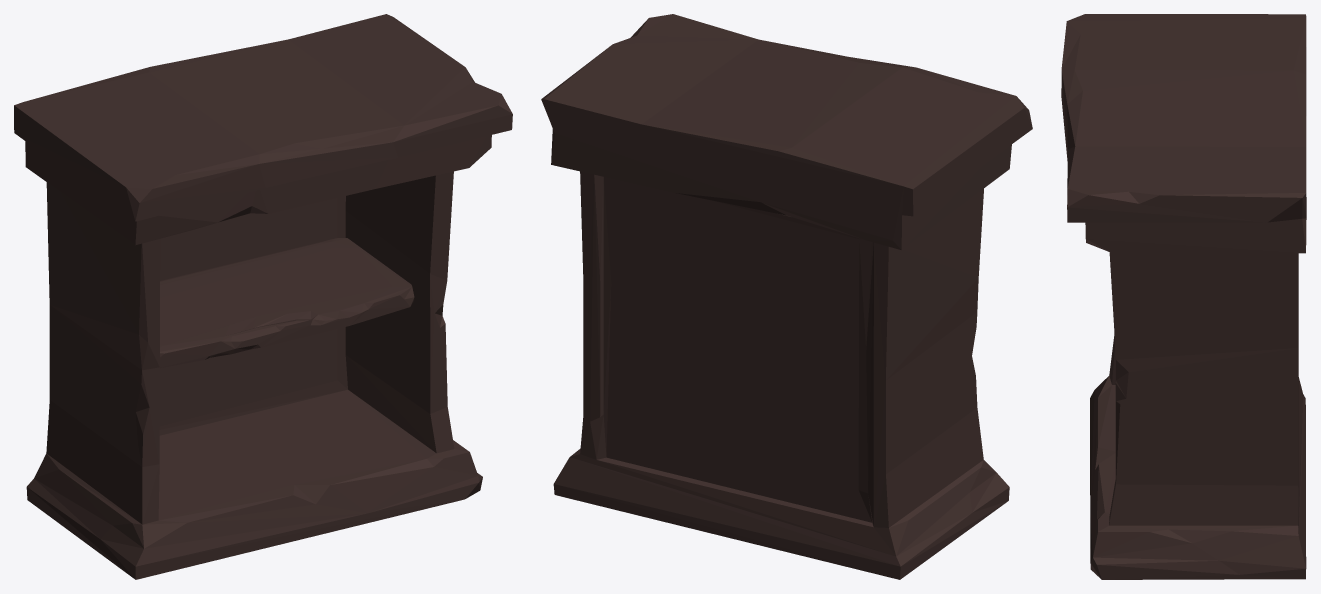
File: MDungeon_Bookcase_02.FBX
3 views of the same model, side by side, from view 1: azimuth 30°, elevation 25°; view 2: azimuth 150°, elevation 25°; view 3: azimuth 270°, elevation 25° (orthographic).
Visible parts, largest first — view 1: MDungeon_Bookcase_02_LOD0; view 2: MDungeon_Bookcase_02_LOD0; view 3: MDungeon_Bookcase_02_LOD0.
Boxes of the visible parts, x1,y1,x2,y2 form: MDungeon_Bookcase_02_LOD0: (14, 14, 512, 579); MDungeon_Bookcase_02_LOD0: (541, 14, 1032, 579); MDungeon_Bookcase_02_LOD0: (1061, 14, 1306, 579).
Size of what is drawn, in the model's own units: 1.11 by 1.13 by 0.633.
